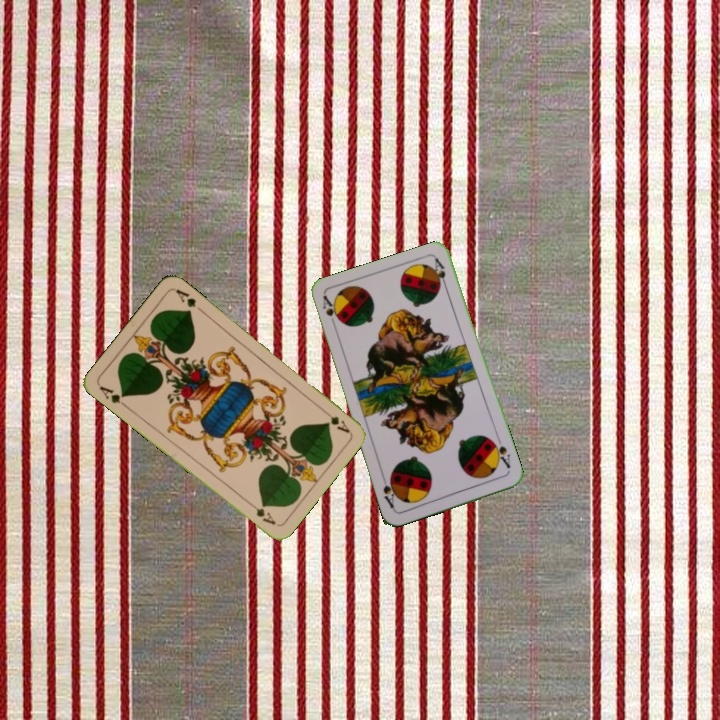GA: (318, 405, 353, 435), (95, 382, 131, 411)
SA: (319, 292, 343, 332), (488, 436, 513, 471)
